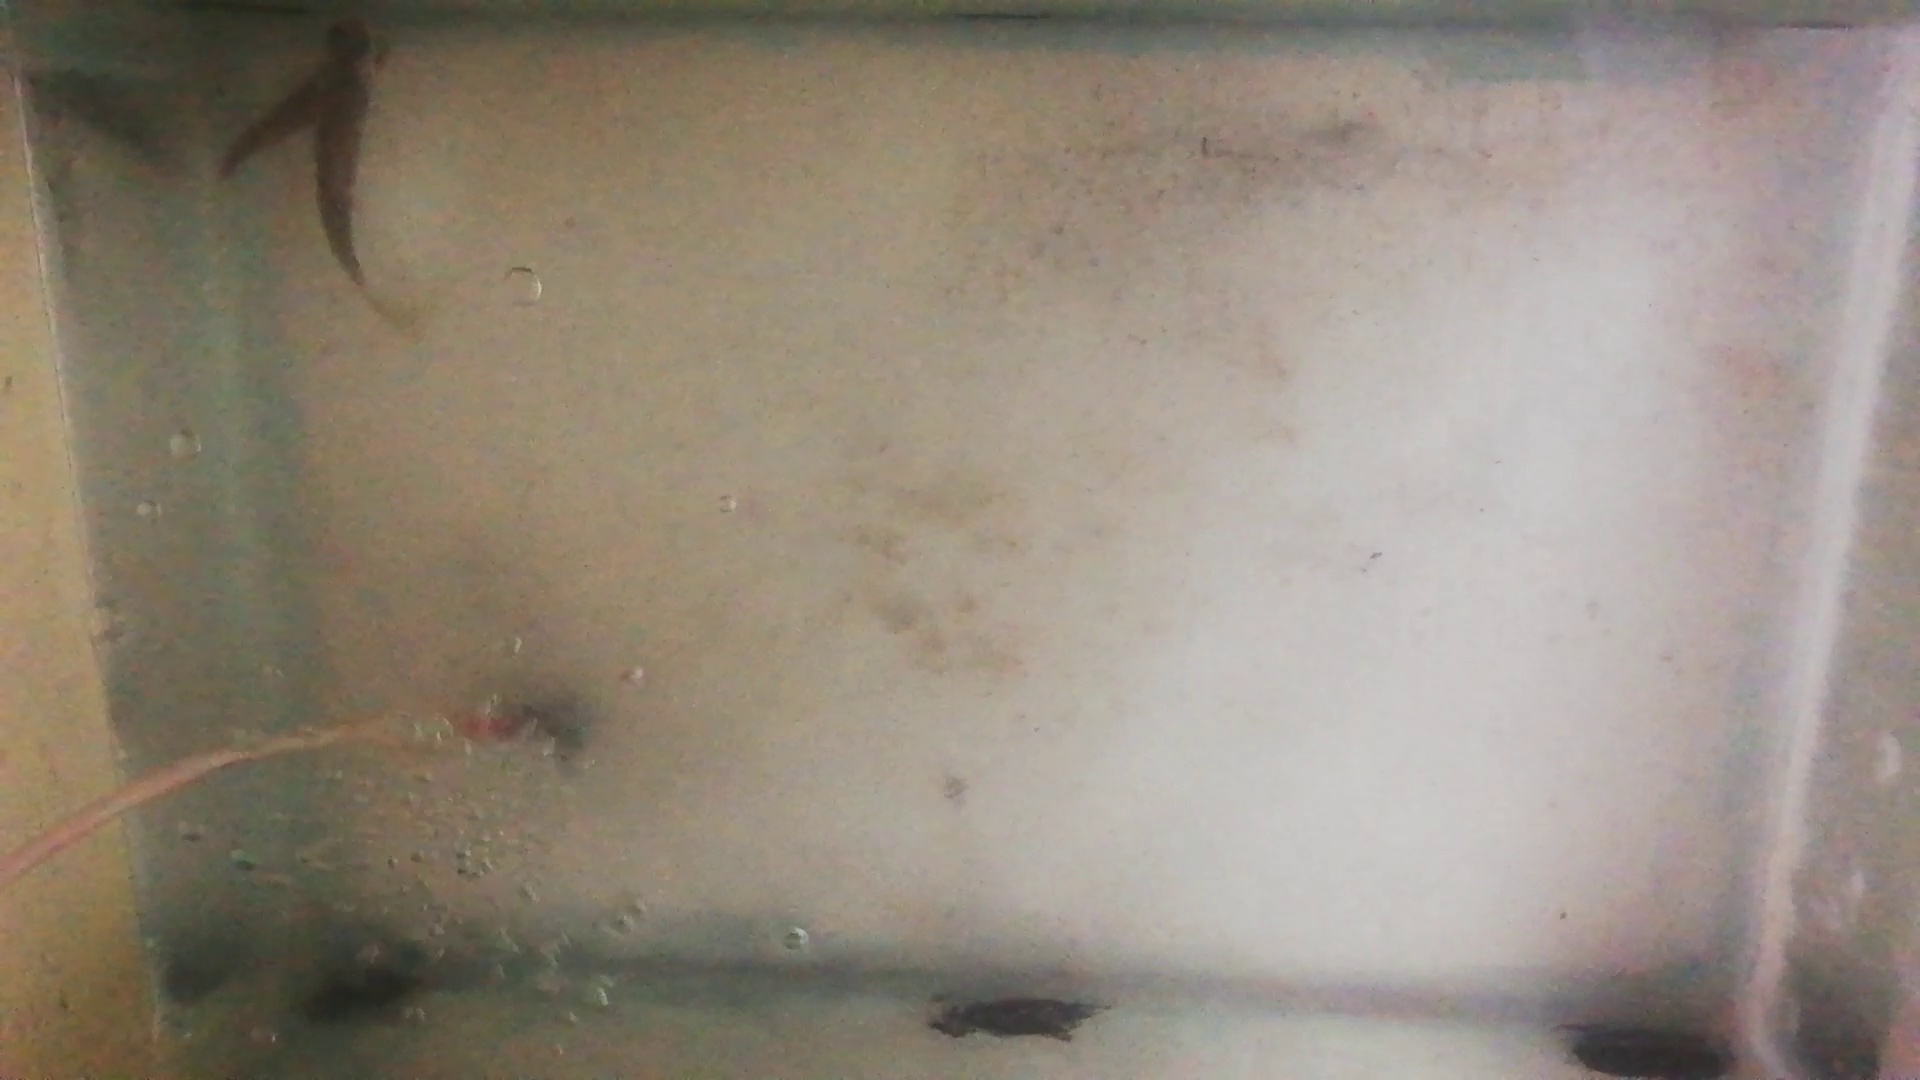fish: (220, 36, 386, 171), (313, 16, 372, 282)
